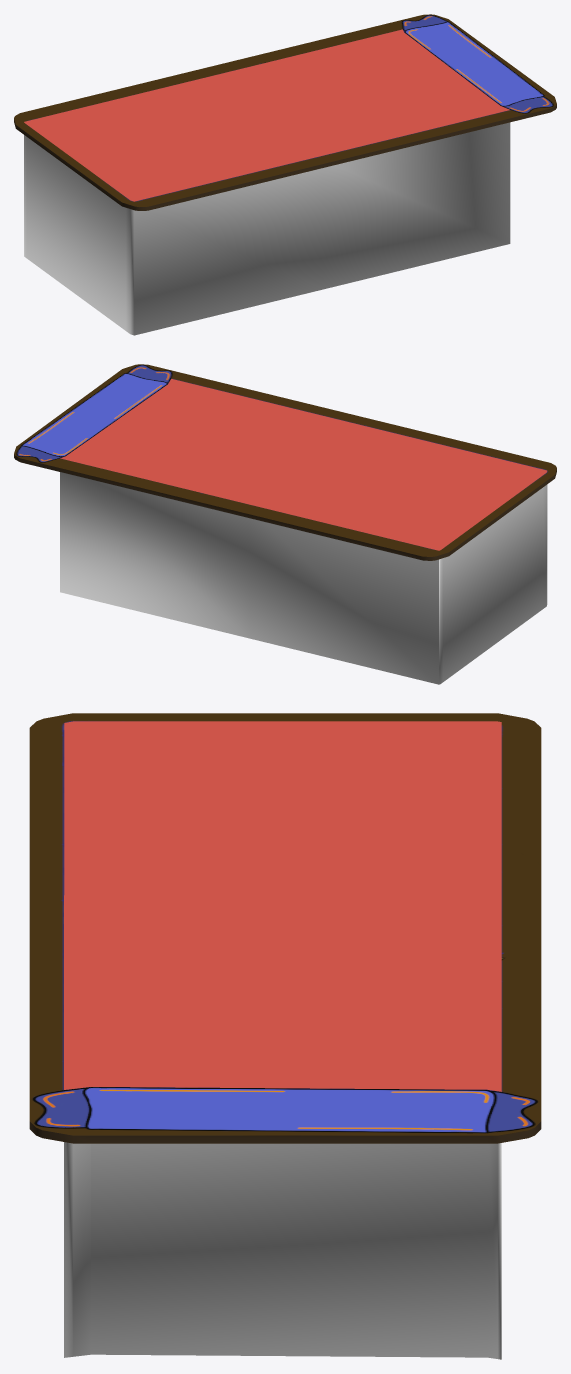
File: Cartafbx.fbx
3 views of the same model, one above another, from view 1: azimuth 30°, elevation 25°; view 2: azimuth 150°, elevation 25°; view 3: azimuth 270°, elevation 25° (orthographic). The views are drawn at different scales.
Parts seen in each view (by area): view 1: Card.001, Card; view 2: Card.001, Card; view 3: Card, Card.001.
Part boxes in pixels (box(x1,y1,x2,y2)): Card.001: box(24, 122, 510, 335); Card: box(14, 14, 556, 210); Card.001: box(60, 472, 547, 684); Card: box(14, 364, 556, 560); Card: box(29, 713, 541, 1143); Card.001: box(64, 1142, 501, 1359).
Bounding box in the file's own units: 3.87 × 1.14 × 1.98.
